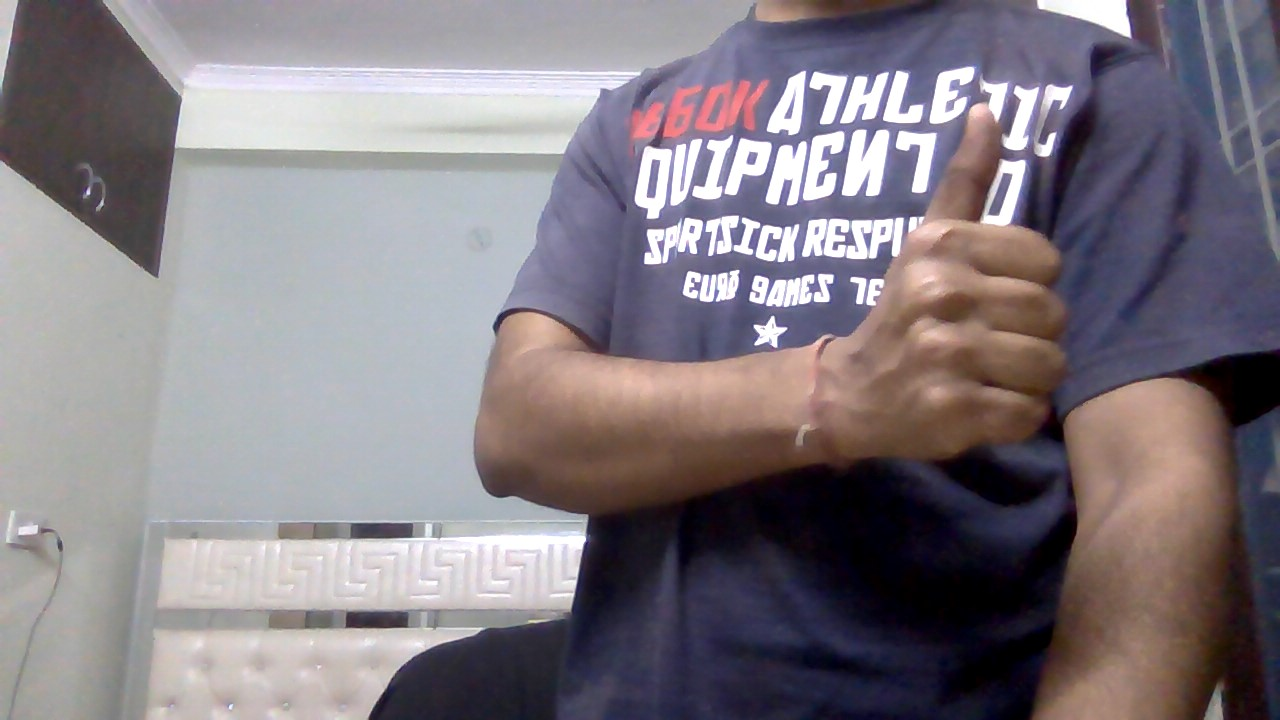Save: (845, 88, 1075, 492)
